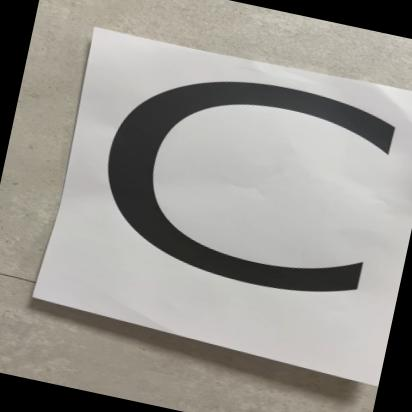seat: (55, 49, 412, 343)
